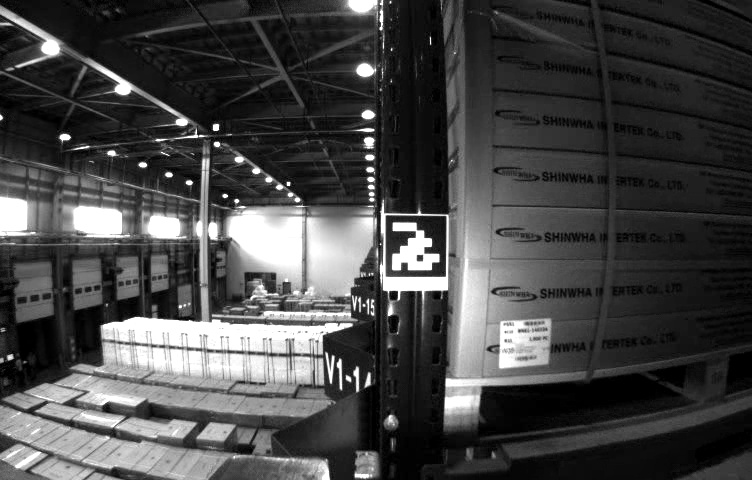True Barcode: (501, 319, 551, 366)
